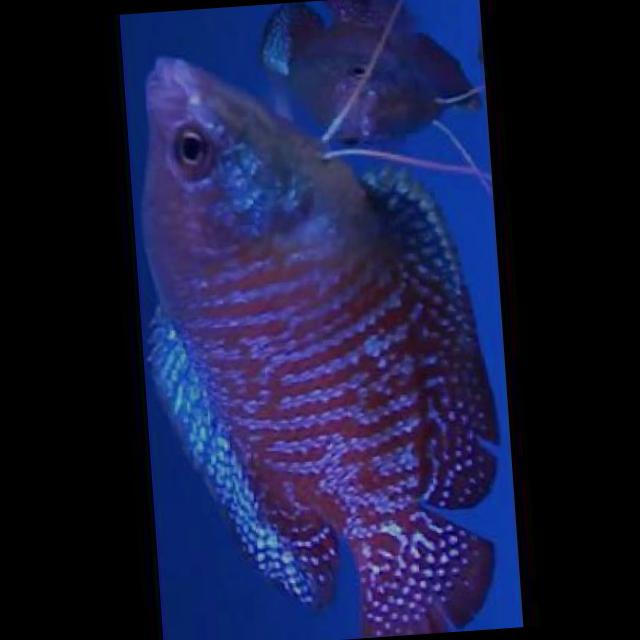Gourami: (126, 34, 507, 640)
